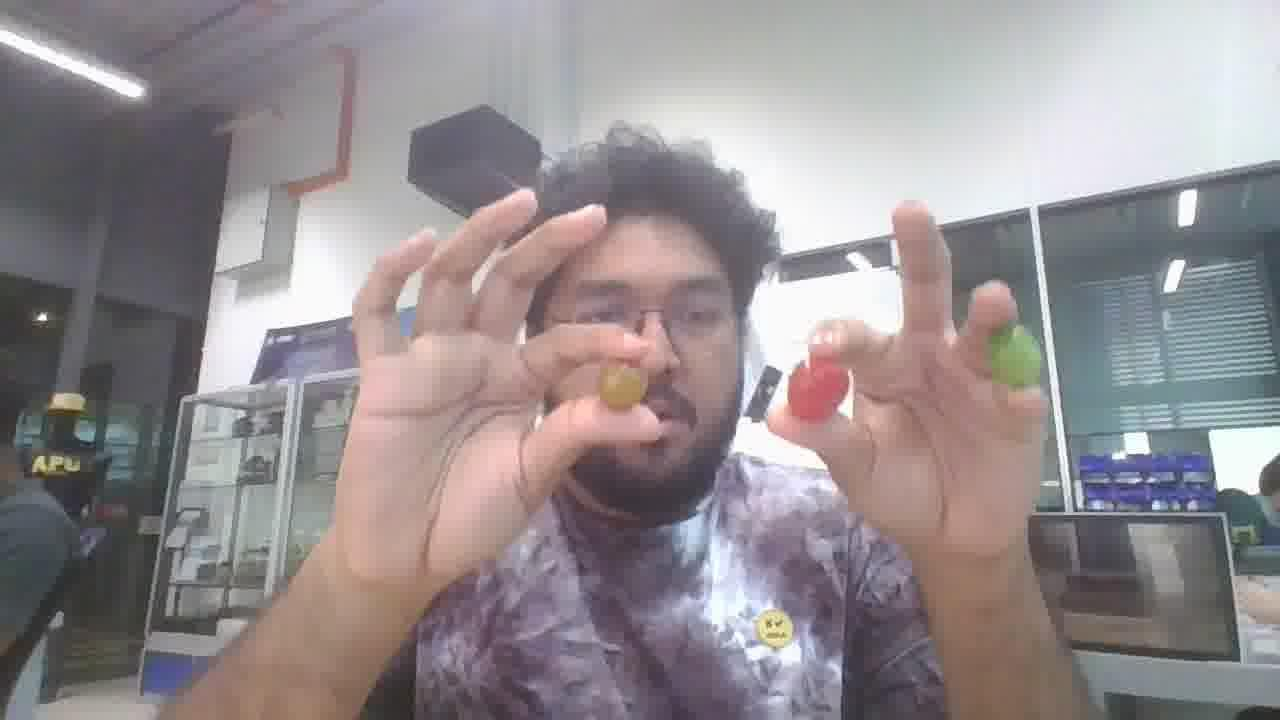green_cherry_tomato: (988, 323, 1041, 388)
red_cherry_tomato: (787, 355, 849, 421)
yellow_cherry_tomato: (599, 365, 646, 410)
